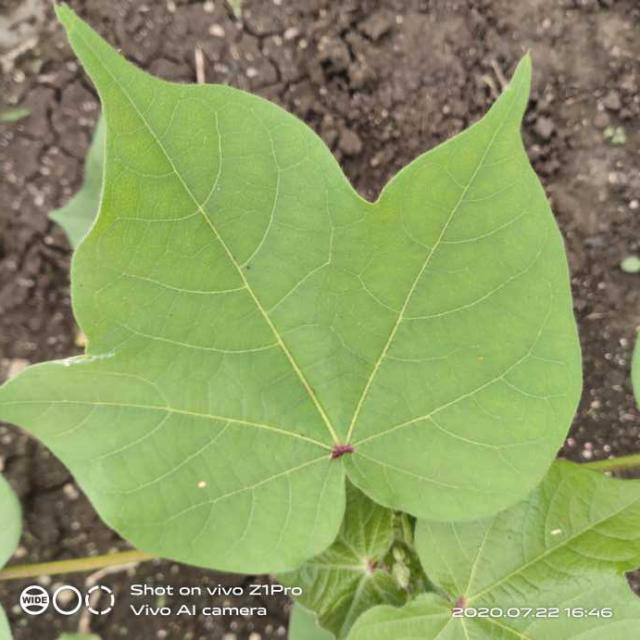Healthy Leaf: (7, 8, 640, 640)
